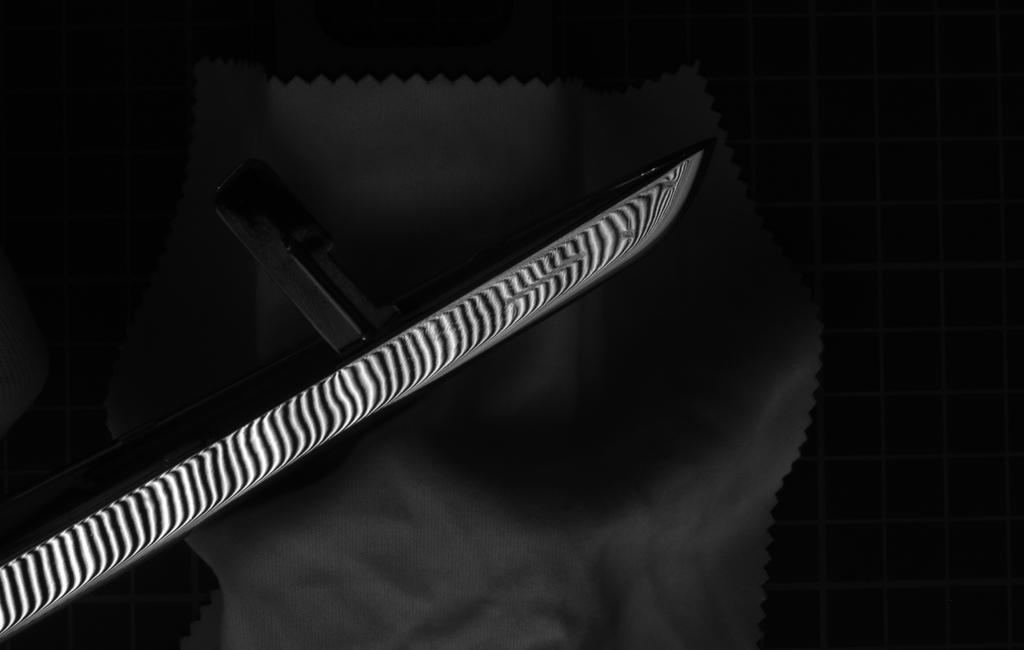Pierced: (660, 173, 682, 193), (617, 225, 639, 244)
Scratch: (498, 250, 591, 304)
